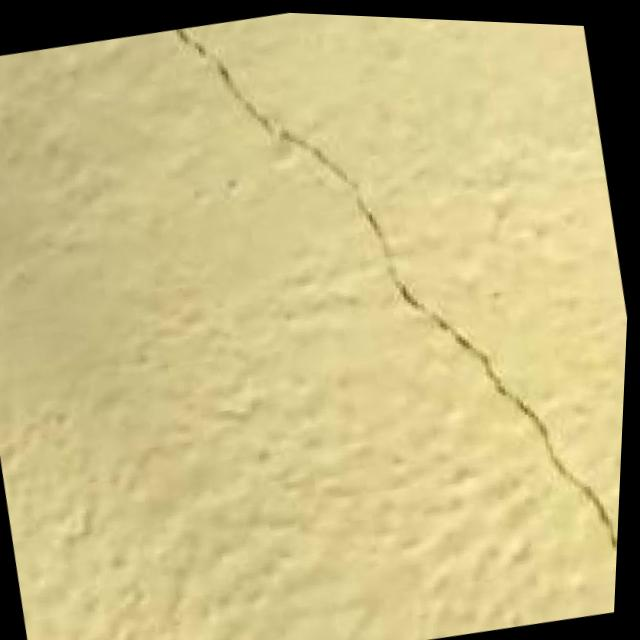Crack: (146, 6, 640, 640)
